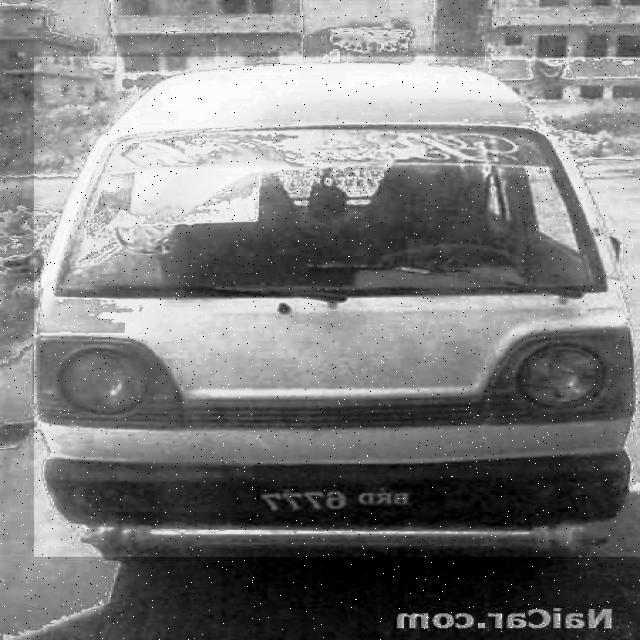LCV: (32, 56, 638, 559)
